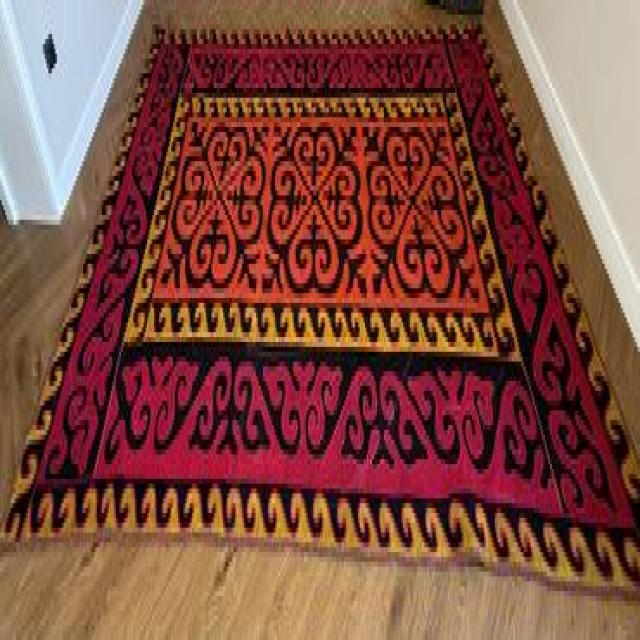Unity: (363, 121, 483, 308), (156, 116, 272, 304), (259, 123, 369, 301)
